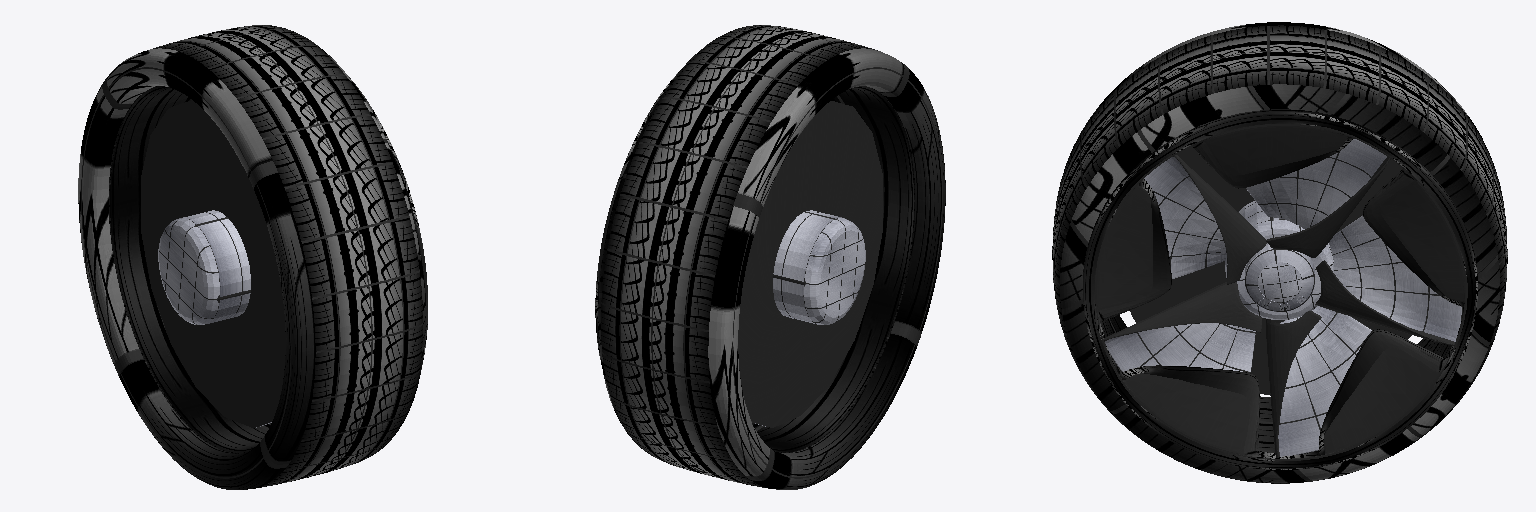
3 renders of one model, left to right at view 1: azimuth 30°, elevation 25°; view 2: azimuth 150°, elevation 25°; view 3: azimuth 270°, elevation 25°, orthographic.
Parts seen in each view (by area): view 1: Torus01, Cylinder03, Tube16, ChamferCyl08; view 2: Torus01, Cylinder03, Tube16, ChamferCyl08; view 3: Torus01, Tube16, Plane32, Plane33, Plane36, Plane35, Plane34, Cylinder03, OilTank04, ChamferCyl08.
Boxes of the visible parts, <box> form: Torus01: <box>78,25,425,489</box>; Cylinder03: <box>141,100,285,427</box>; Tube16: <box>110,77,427,452</box>; ChamferCyl08: <box>158,210,250,324</box>; Torus01: <box>598,25,945,489</box>; Cylinder03: <box>738,101,882,427</box>; Tube16: <box>595,72,913,452</box>; ChamferCyl08: <box>773,210,865,324</box>; Torus01: <box>1052,22,1507,483</box>; Tube16: <box>1083,109,1477,469</box>; Plane32: <box>1266,306,1372,457</box>; Plane33: <box>1315,215,1462,345</box>; Plane36: <box>1104,282,1261,372</box>; Plane35: <box>1144,155,1266,284</box>; Plane34: <box>1246,139,1390,257</box>; Cylinder03: <box>1130,146,1411,395</box>; OilTank04: <box>1245,244,1314,311</box>; ChamferCyl08: <box>1225,201,1333,319</box>.
Bounding box in the file's own units: 0.7232 × 1.92 × 1.92.
Materials: 2 (2 with a texture image).